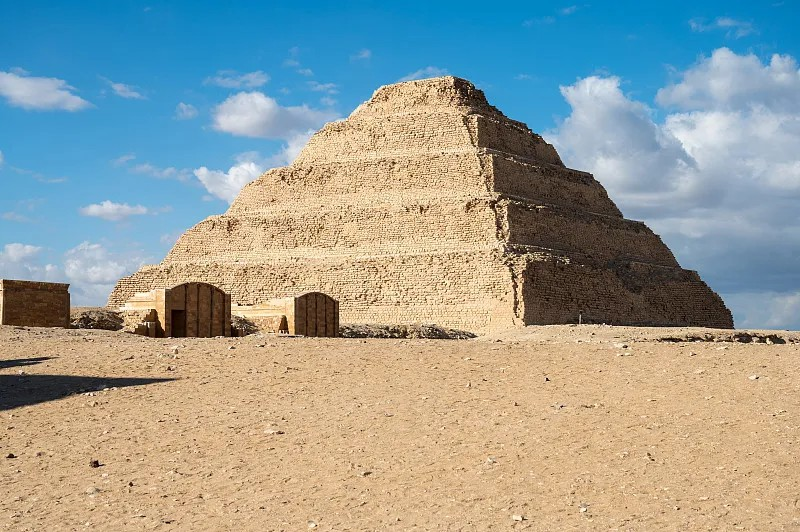Pyramid: (108, 77, 733, 329)
